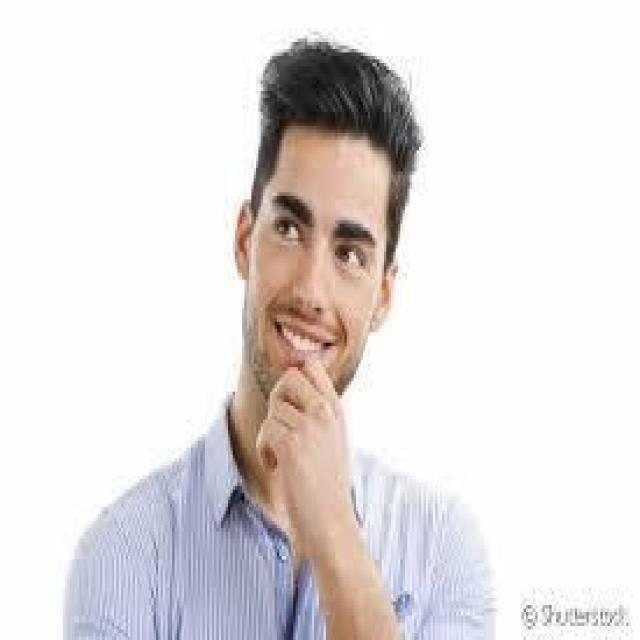person: (49, 21, 510, 619)
